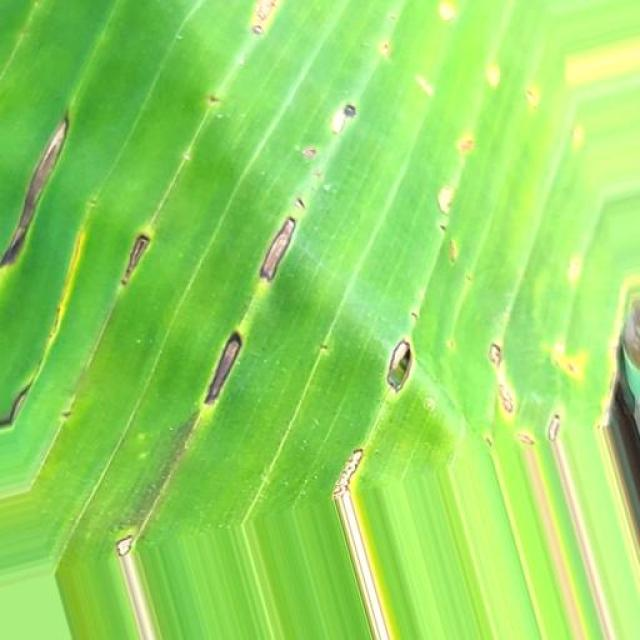Black_rot: (4, 21, 640, 531)
